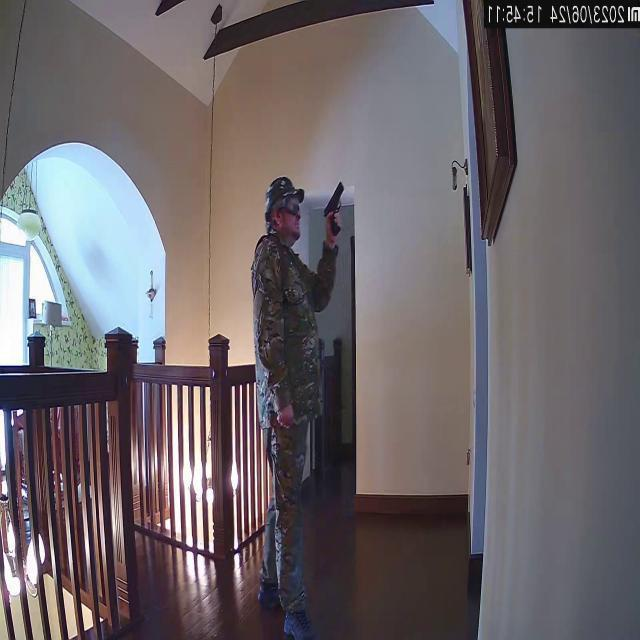pistol: (324, 181, 344, 238)
